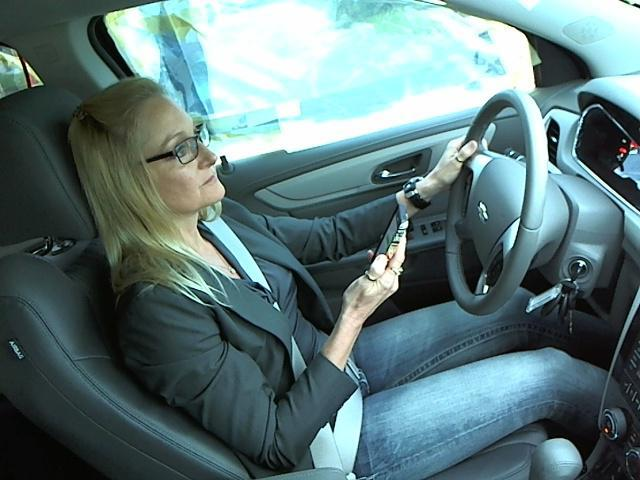PhoneUse: (372, 197, 414, 306)
